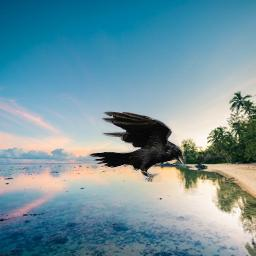Crow: (86, 110, 186, 182)
